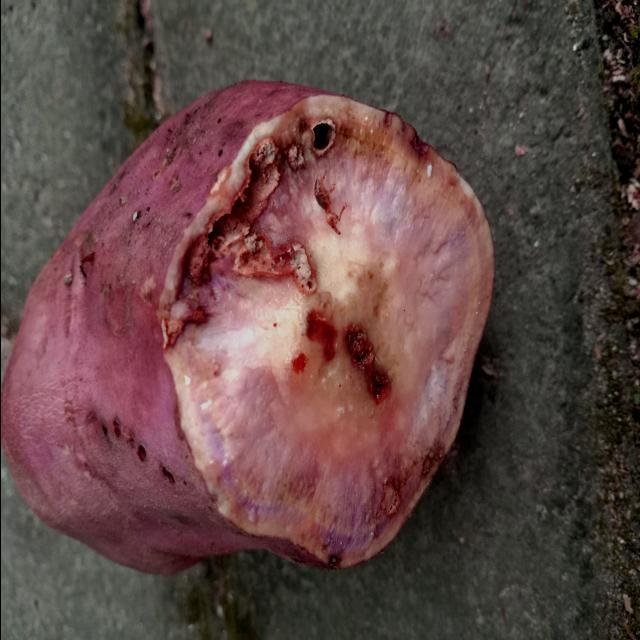Sick Sweet Potato_Tuber Rot: (159, 95, 492, 567)
